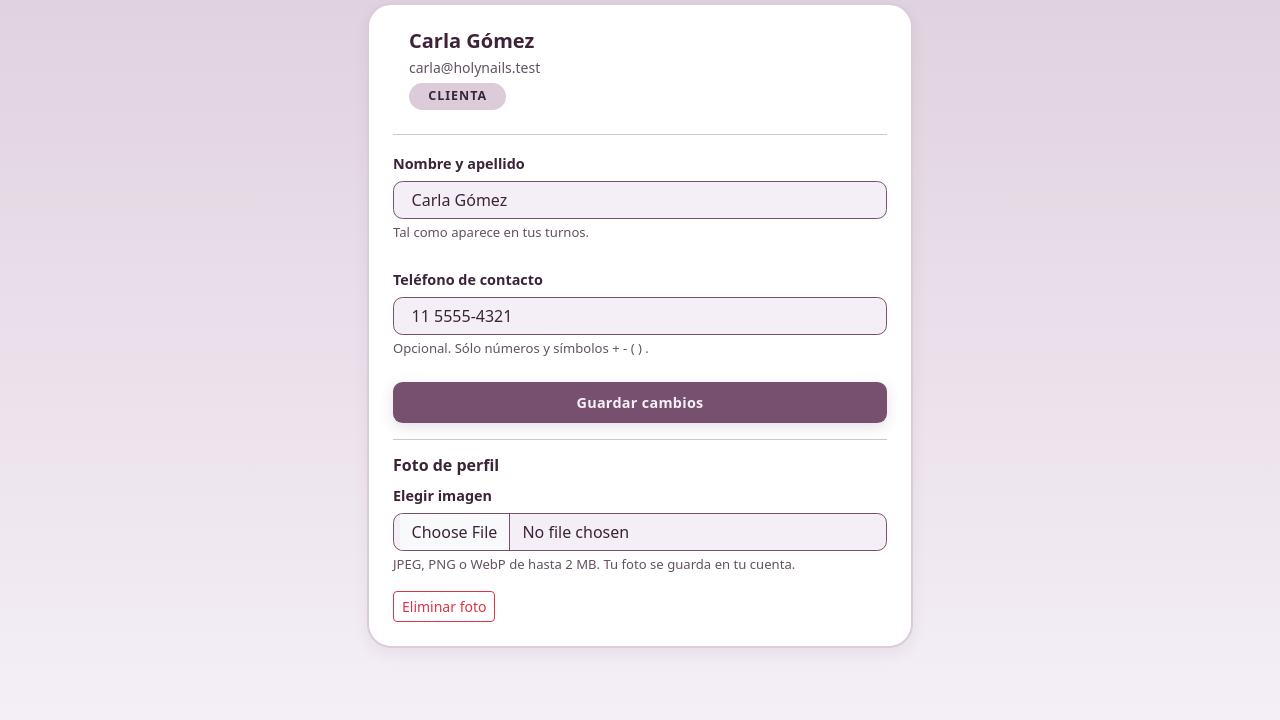
Perfil — eliminación de la foto › elimina la foto propia con DELETE y limpia el contexto
The width and height of the screenshot is (1280, 720).
(page scrolled)
Click the button "Eliminar foto" at (444, 606), box [393, 591, 496, 622]
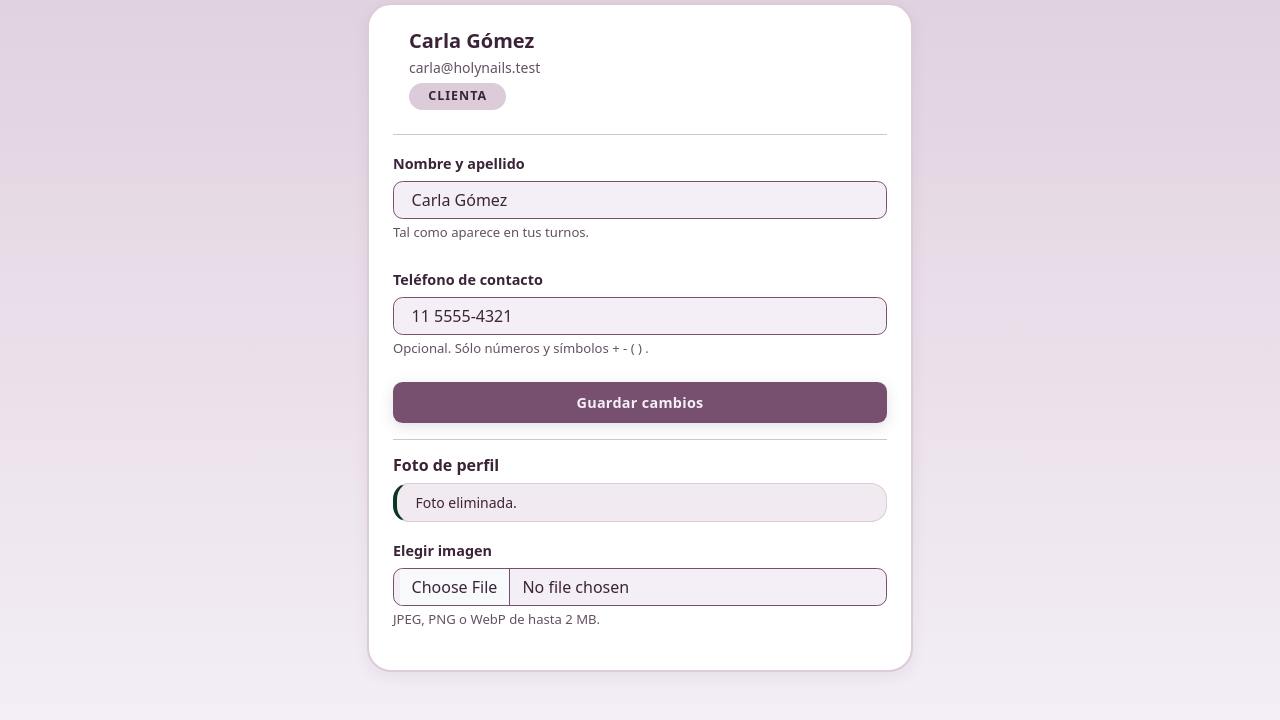
Now the message reads "Foto eliminada.", box [415, 493, 517, 512]
Now the button "Eliminar foto" is gone
